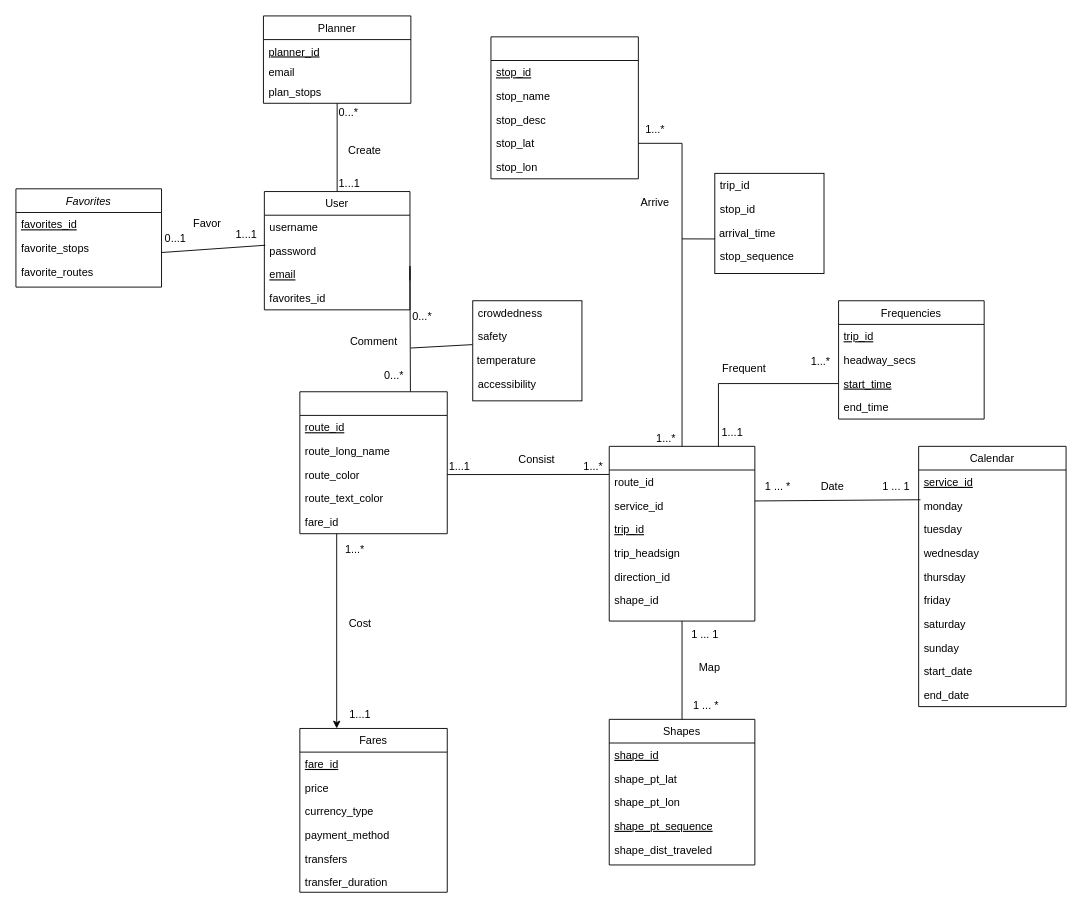
This 1082x911 diagram has some shape labels left out. Each missing label, with the box of its shape:
Bus_stops: (490, 36, 638, 179)
Routes: (299, 391, 447, 534)
Trips: (608, 445, 755, 621)
